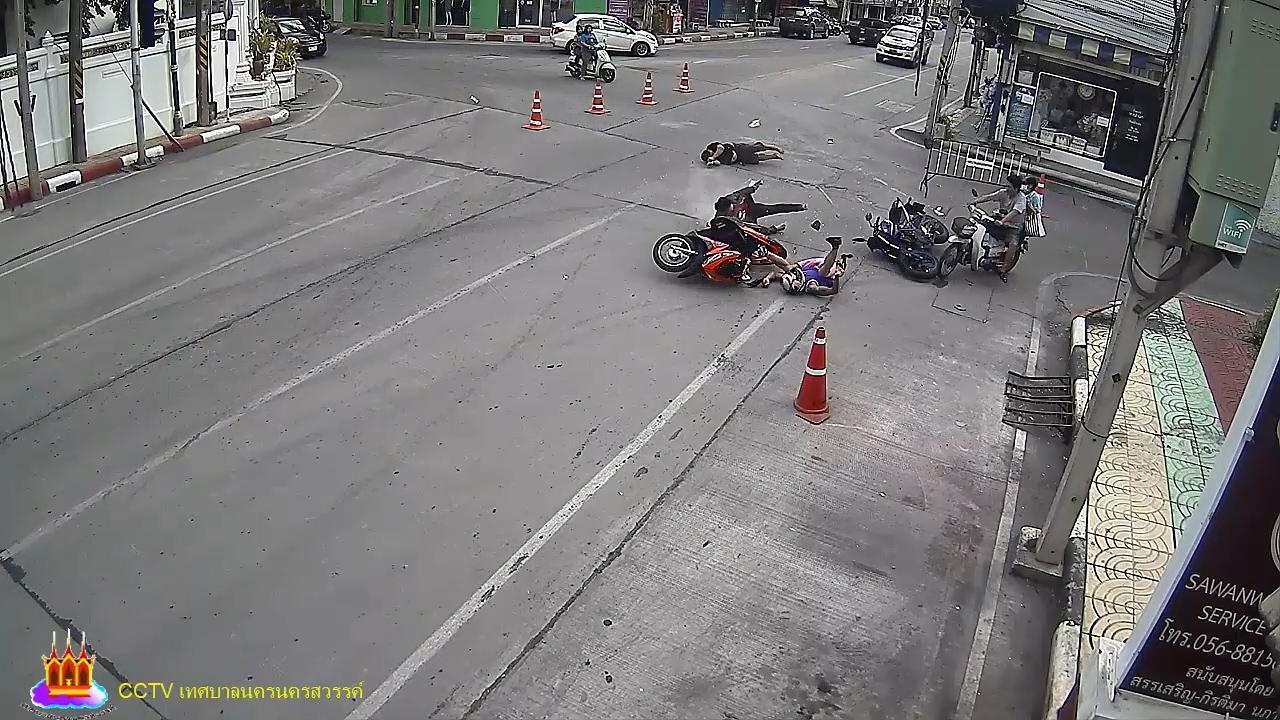accident: (708, 177, 810, 235), (763, 235, 854, 299), (696, 133, 787, 170)
